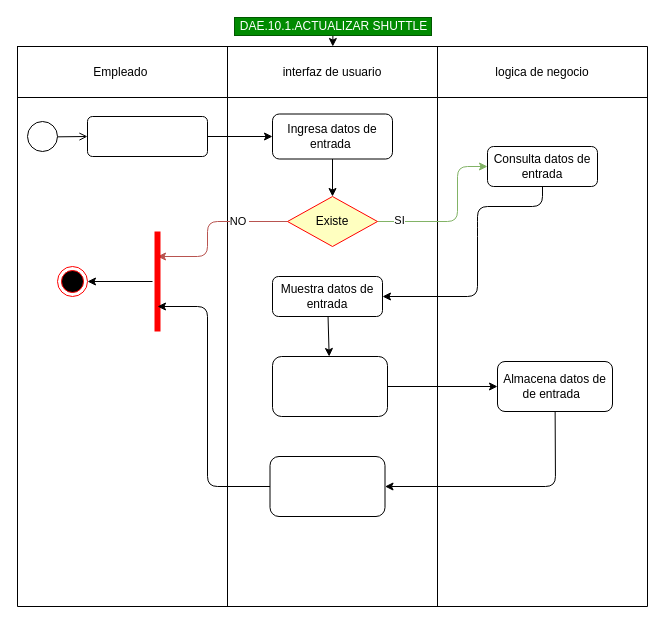
The diagram is 665 pixels wide and 624 high, and some of its shapes have lost their labels. Each missing label, with the centre of its shape:
"Ingresa tipo de viaje" belongs at (147,136).
"Muestra nuevos datos de entrada" belongs at (327,486).
"Selecciona y confirma datos de entrada a Actualizar" belongs at (330,386).
